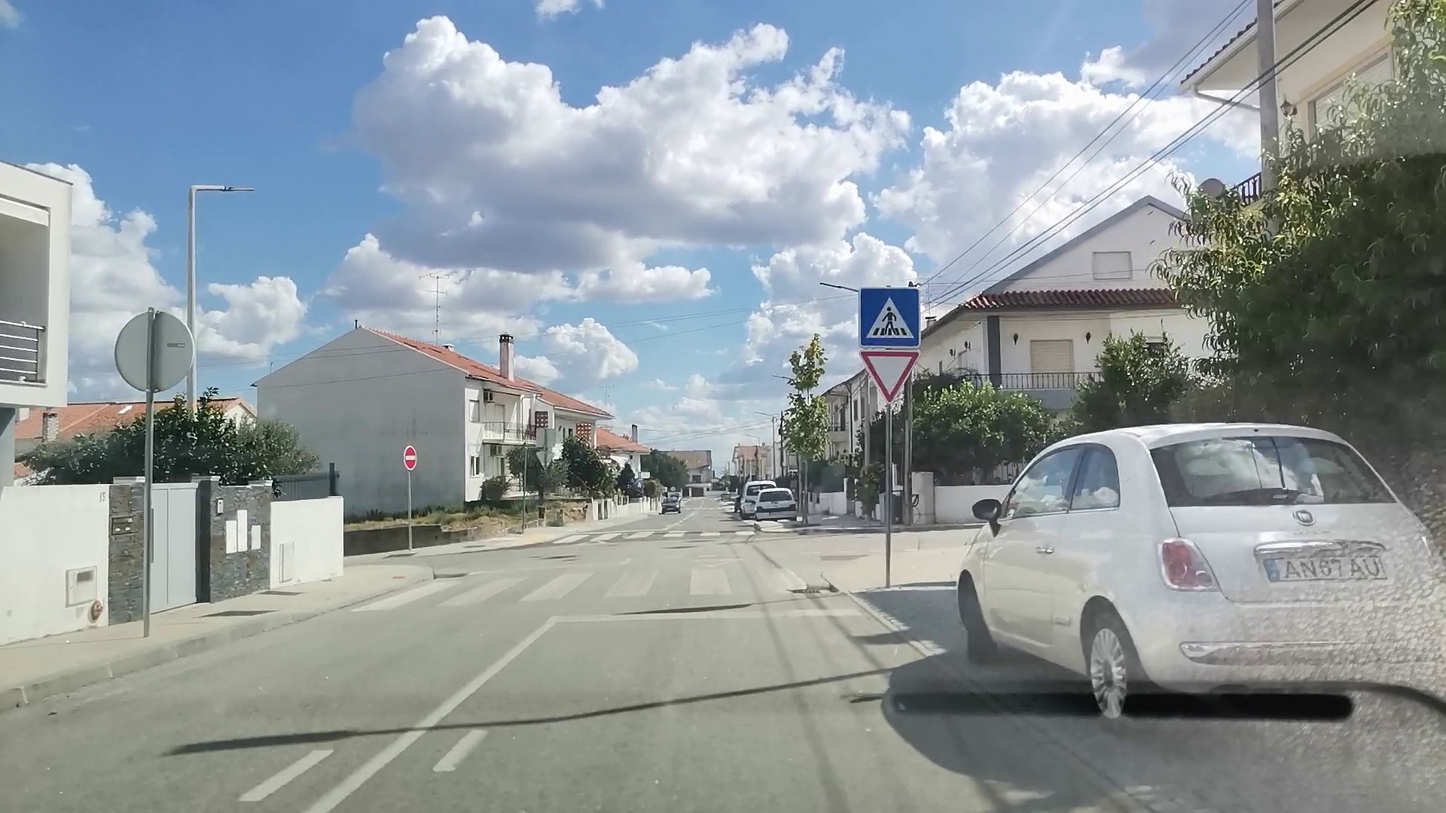Stairs: (355, 565, 827, 609), (551, 530, 756, 544)
